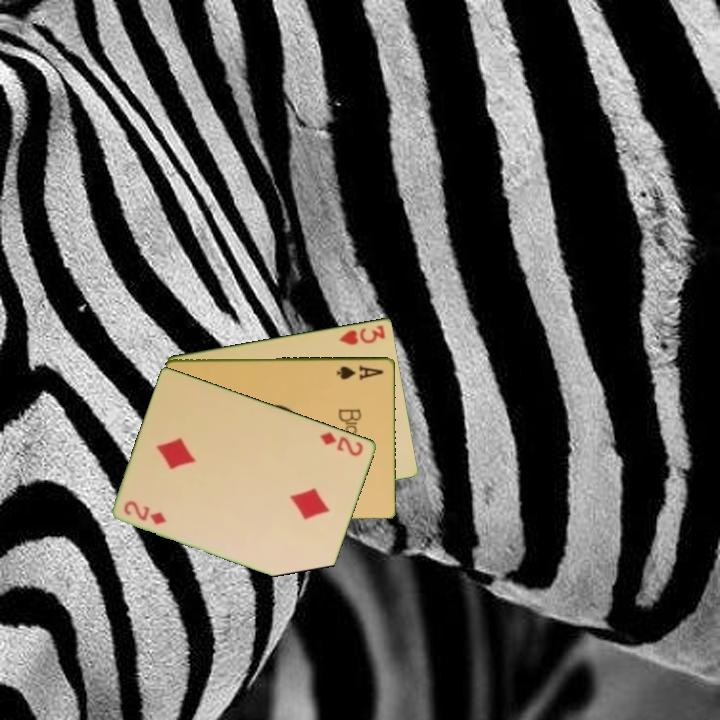2d: (317, 428, 366, 459), (121, 497, 170, 528)
3h: (336, 321, 388, 348)
As: (333, 362, 387, 383)
